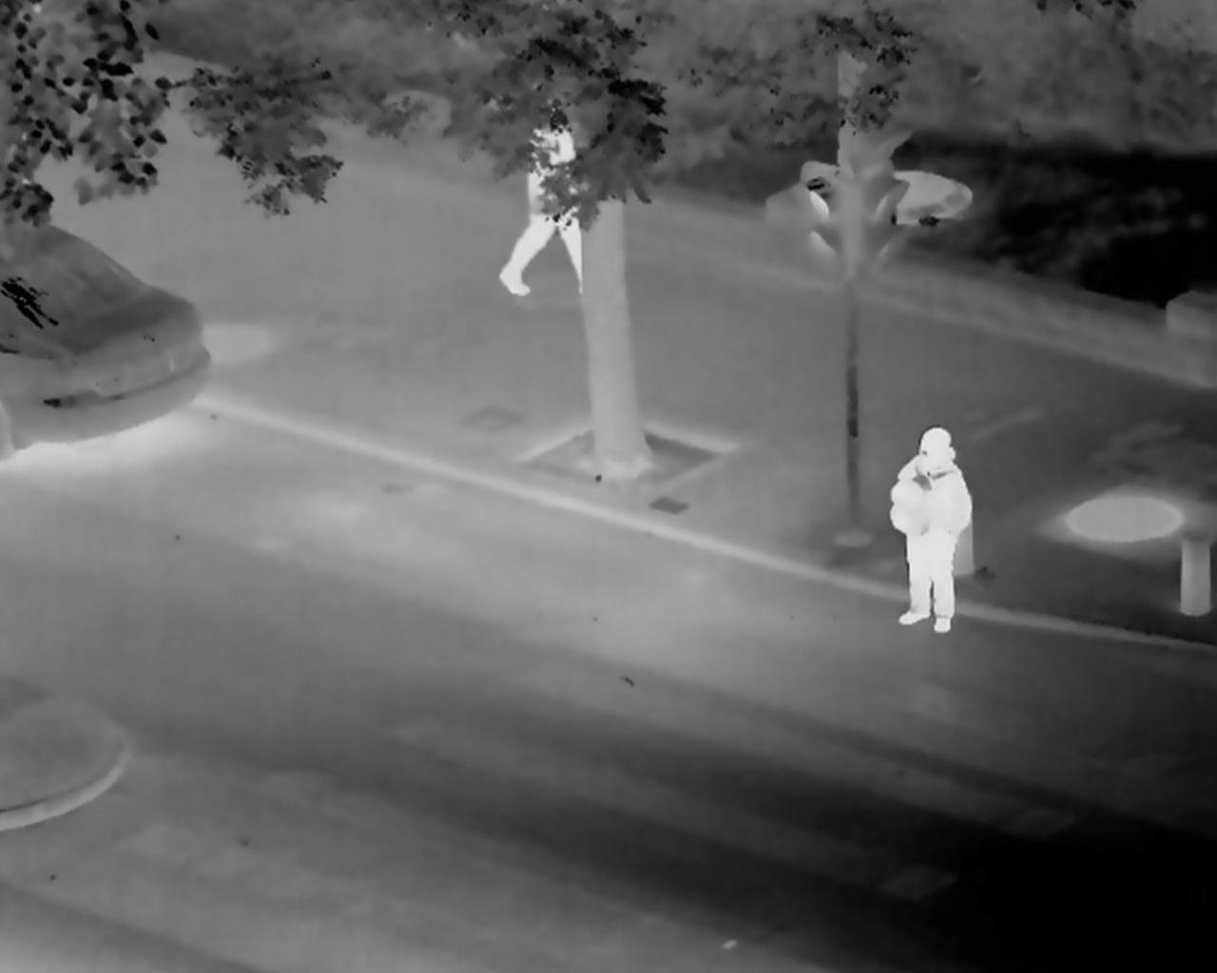person: (503, 84, 592, 297), (890, 424, 972, 636)
